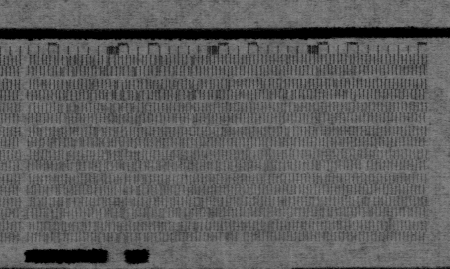Broken hole: (357, 158, 370, 173)
Oblique printing: (35, 52, 248, 172), (186, 194, 217, 221), (103, 194, 132, 221), (217, 230, 239, 245)
